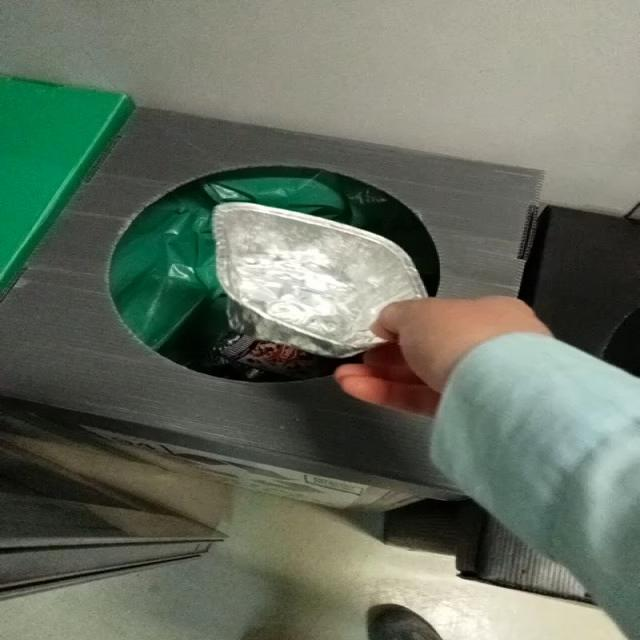bin: (1, 108, 543, 510)
metal: (212, 203, 428, 358)
